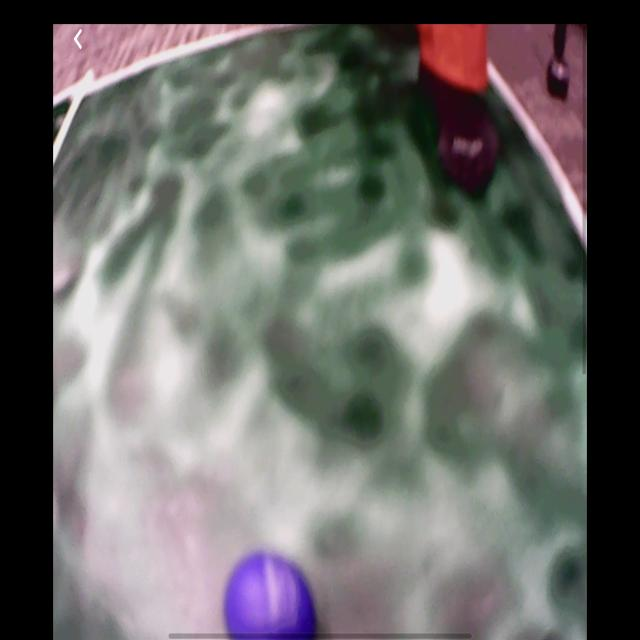ball: (223, 551, 319, 640)
